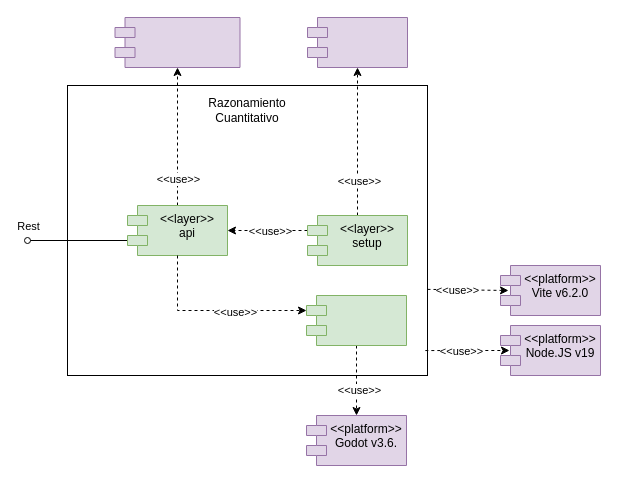
Some shapes in this 618 by 483 pixel diagram are drawn without their labels. Here are the shapes that lost their labels. From the top down, the centre of each, then its label:
(177,42): <<npm>> express@4.18.2
(357,42): <<npm>> pg@8.16.0
(356,320): <<layer>> frontend
